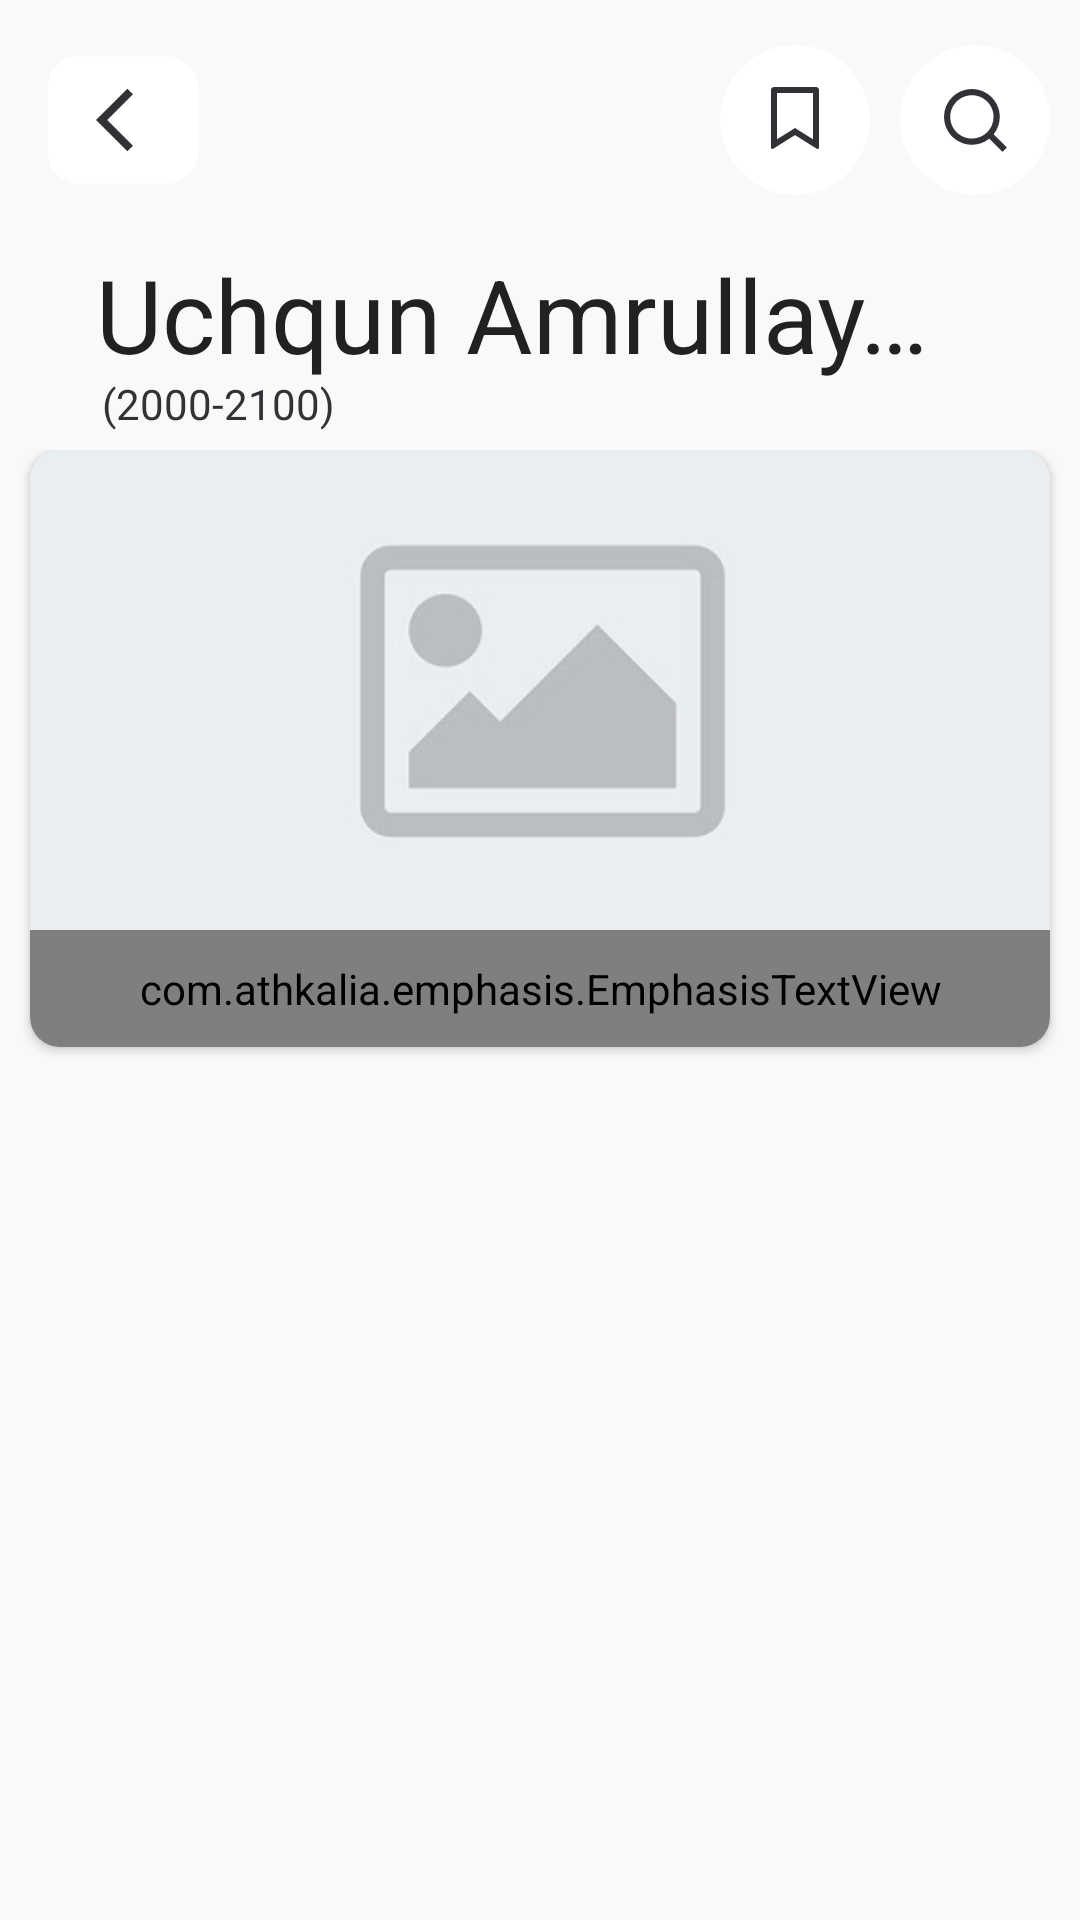

Icon bounding boxes for this 1080*1920 phone screenshot, format (x1=x1, y1=y1, x2=x2, y2=y2):
back: (x1=96, y1=89, x2=133, y2=151)
save: (x1=771, y1=87, x2=819, y2=149)
search: (x1=944, y1=89, x2=1007, y2=152)
